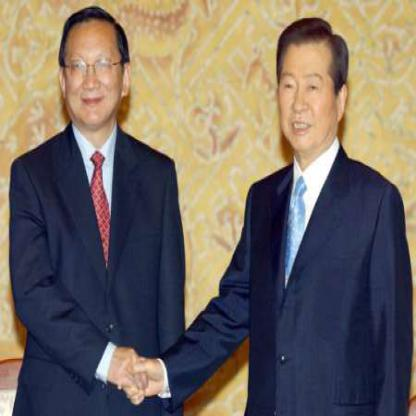face: (276, 24, 341, 156), (63, 9, 125, 130)
